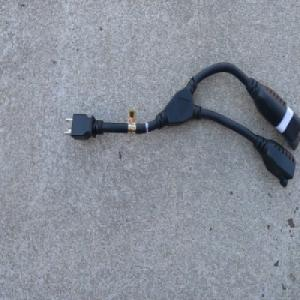Wire: (63, 61, 300, 189)
